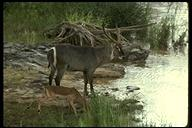antelope: (45, 21, 126, 98), (24, 81, 91, 119)
grass: (95, 102, 127, 124)
water: (143, 70, 186, 123)
